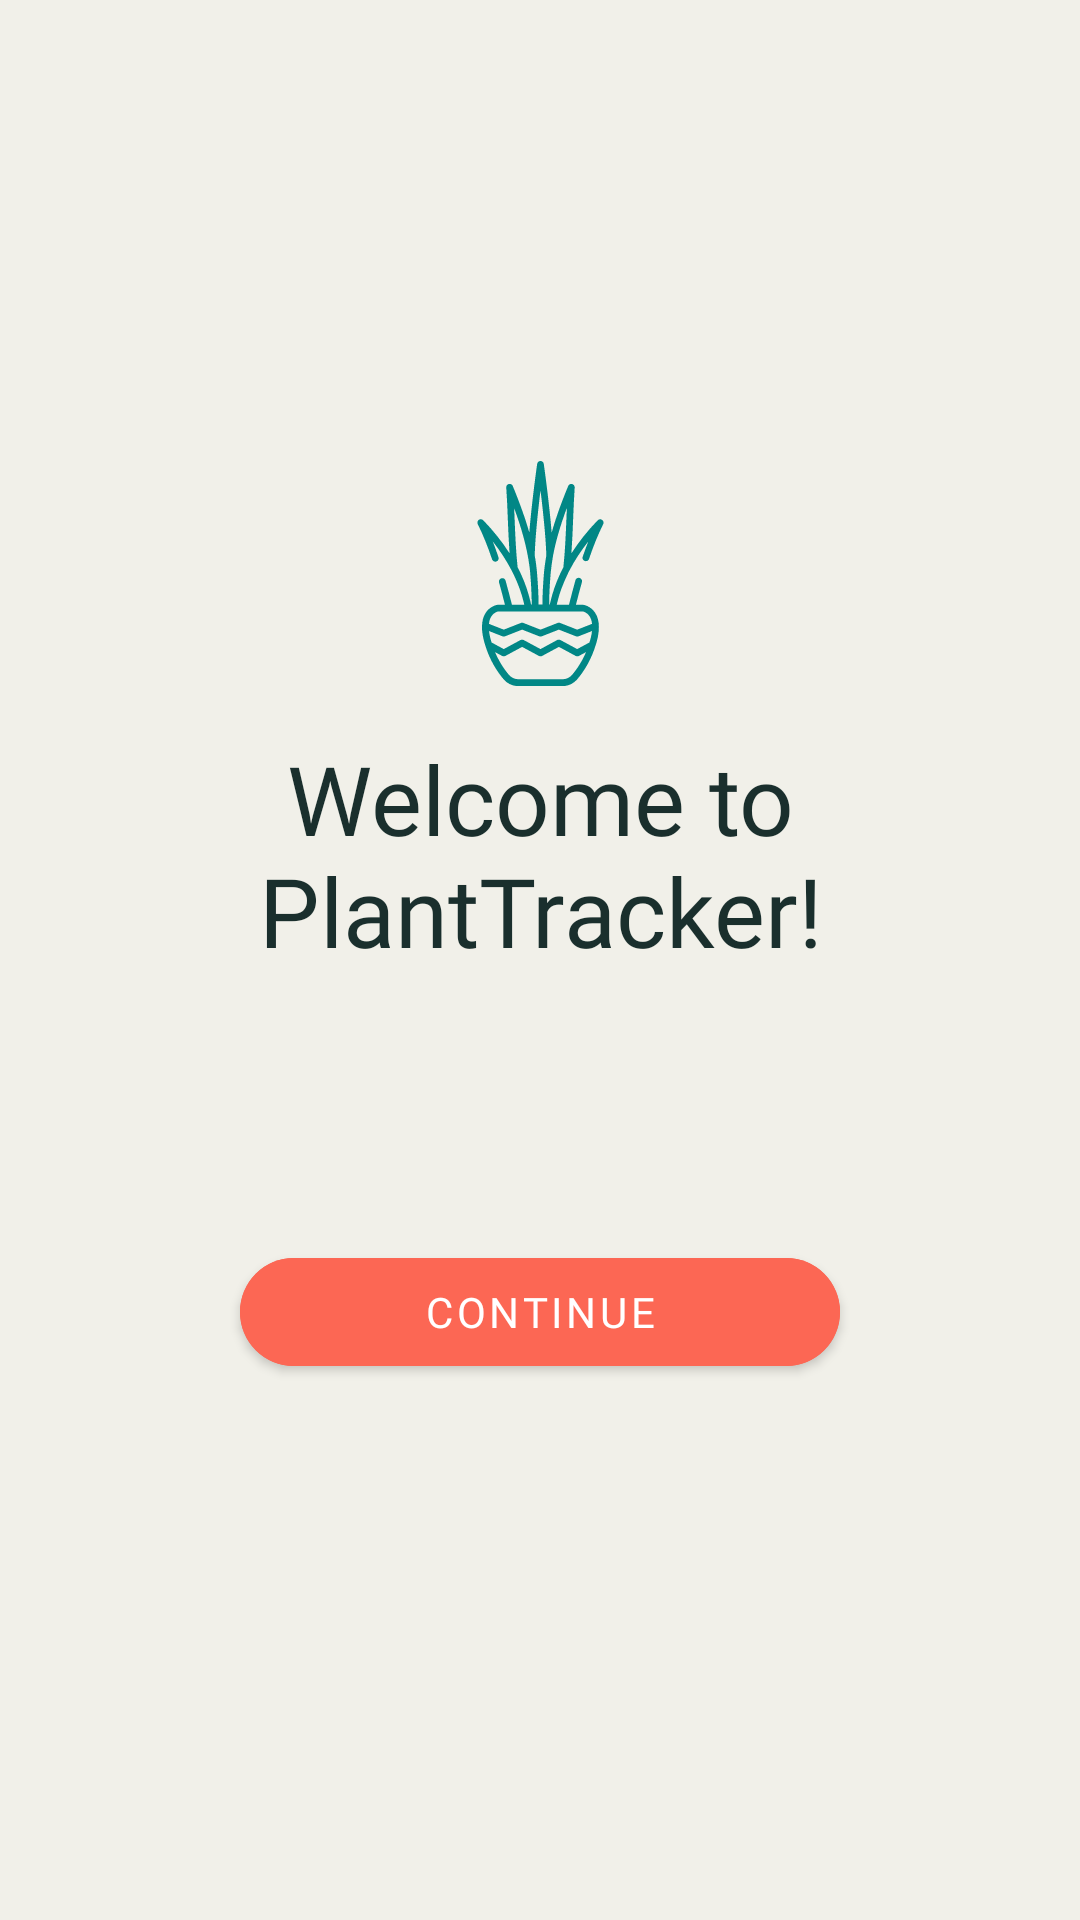

Locate icon controls on the screen. Image size 1080x1920, boxes as (x1, y1, x2, y2).
Vector image of potted plant: (477, 461, 604, 686)
